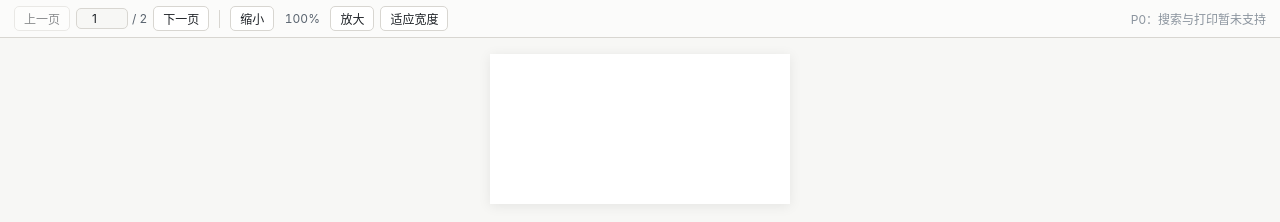
Test: PdfViewer › zooms in and out
expect the text "100%" is shown: met, box x1=285 y1=11 x2=320 y2=26
Click the button "放大" at (352, 18), box x1=330 y1=6 x2=374 y2=31
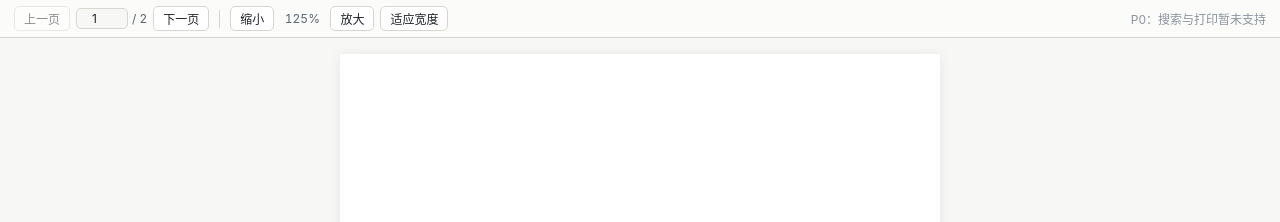
expect the text "125%" is shown: met, box x1=285 y1=11 x2=320 y2=26
Click the button "缩小" at (252, 18), box x1=230 y1=6 x2=274 y2=31
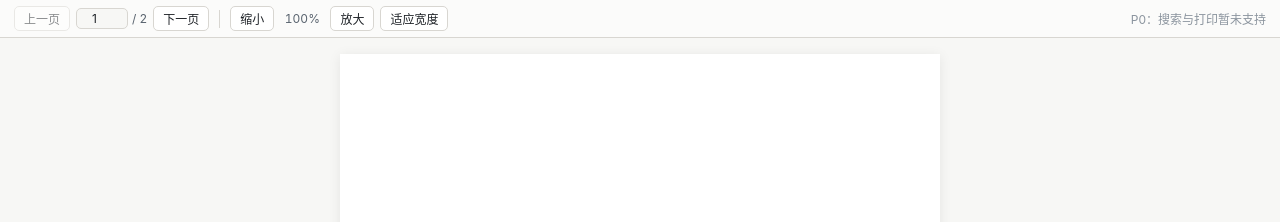
expect the text "100%" is shown: met, box x1=285 y1=11 x2=320 y2=26
